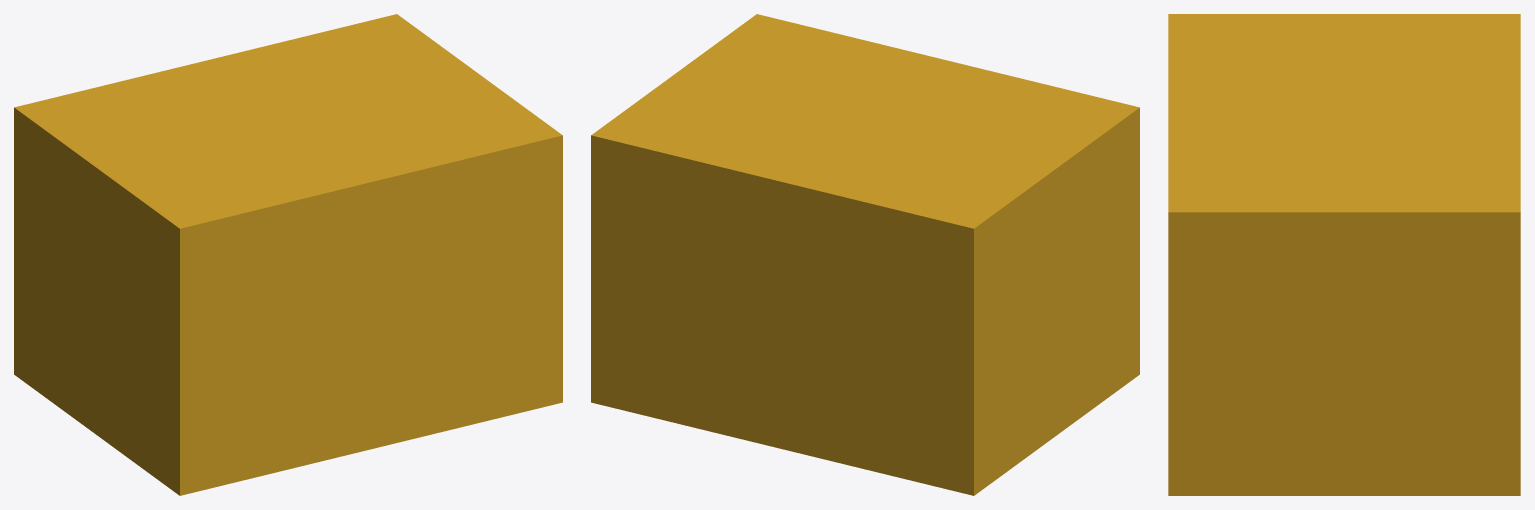
File: chest.obj
3 views of the same model, side by side, from view 1: azimuth 30°, elevation 25°; view 2: azimuth 150°, elevation 25°; view 3: azimuth 270°, elevation 25° (orthographic). The views are drawn at different scales.
Size of the model in its own units: 1.2 by 0.8 by 0.9.
